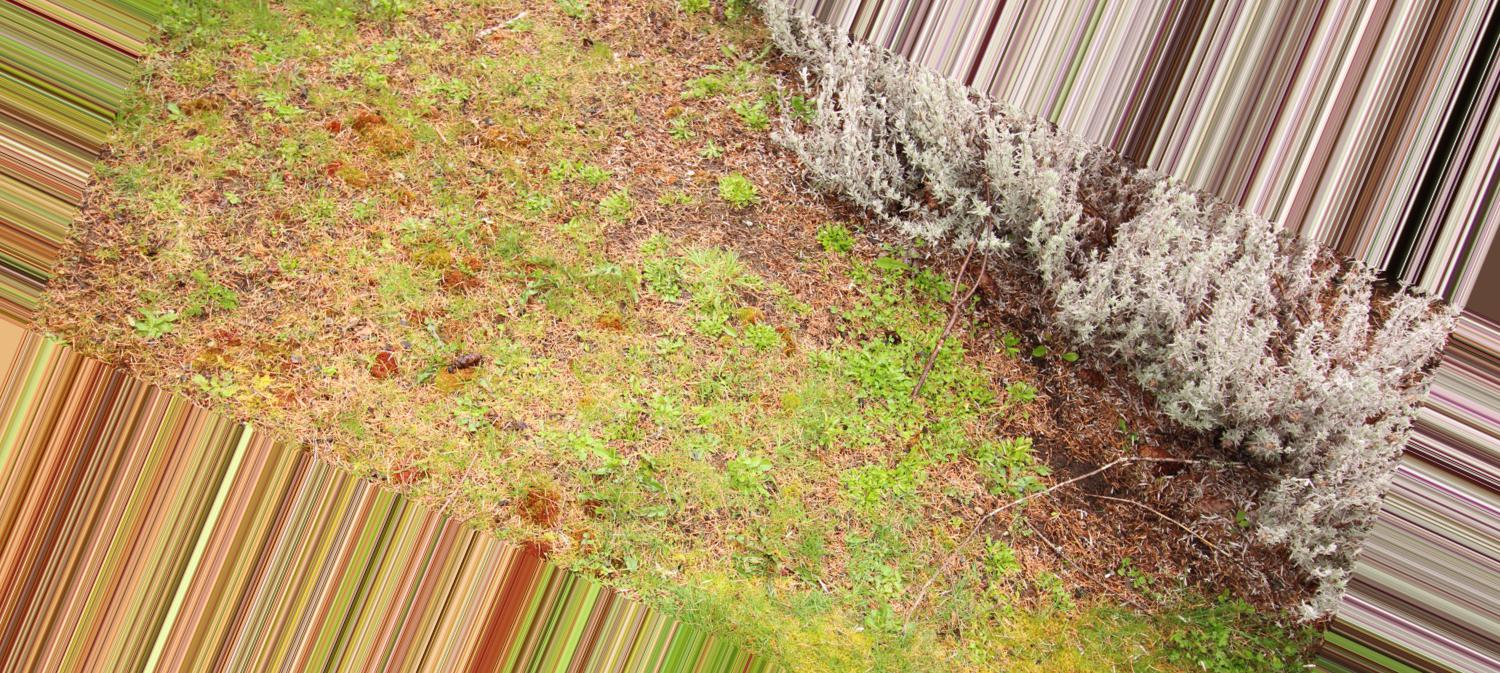patch: (707, 85, 830, 214), (1004, 299, 1104, 428), (630, 8, 716, 74), (1133, 439, 1198, 522), (638, 108, 698, 191), (316, 242, 370, 299), (770, 231, 833, 279), (1053, 462, 1087, 539), (273, 311, 316, 354), (504, 134, 550, 171), (567, 334, 601, 376)
